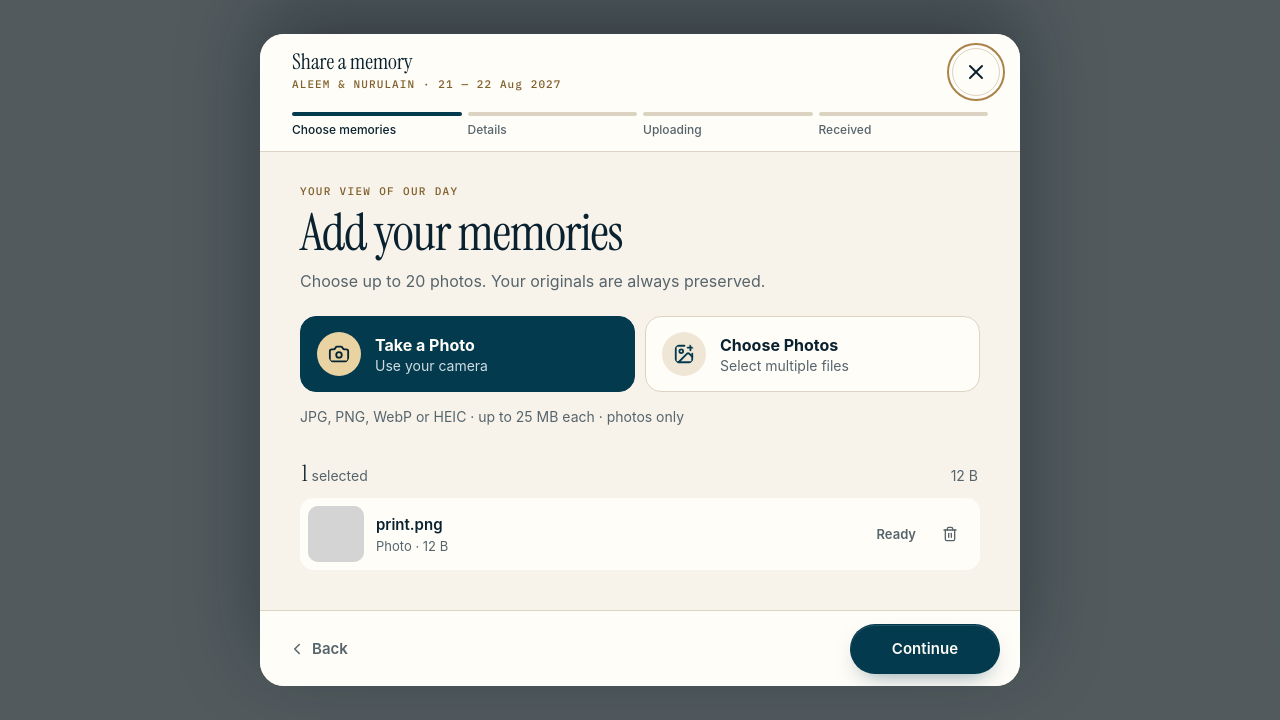
Test case: day-aware upload preparation › keeps a framed print locked to its printed date even when both albums are visible
The width and height of the screenshot is (1280, 720).
Click the button "Continue".
click(925, 649)  # box [850, 624, 1000, 674]
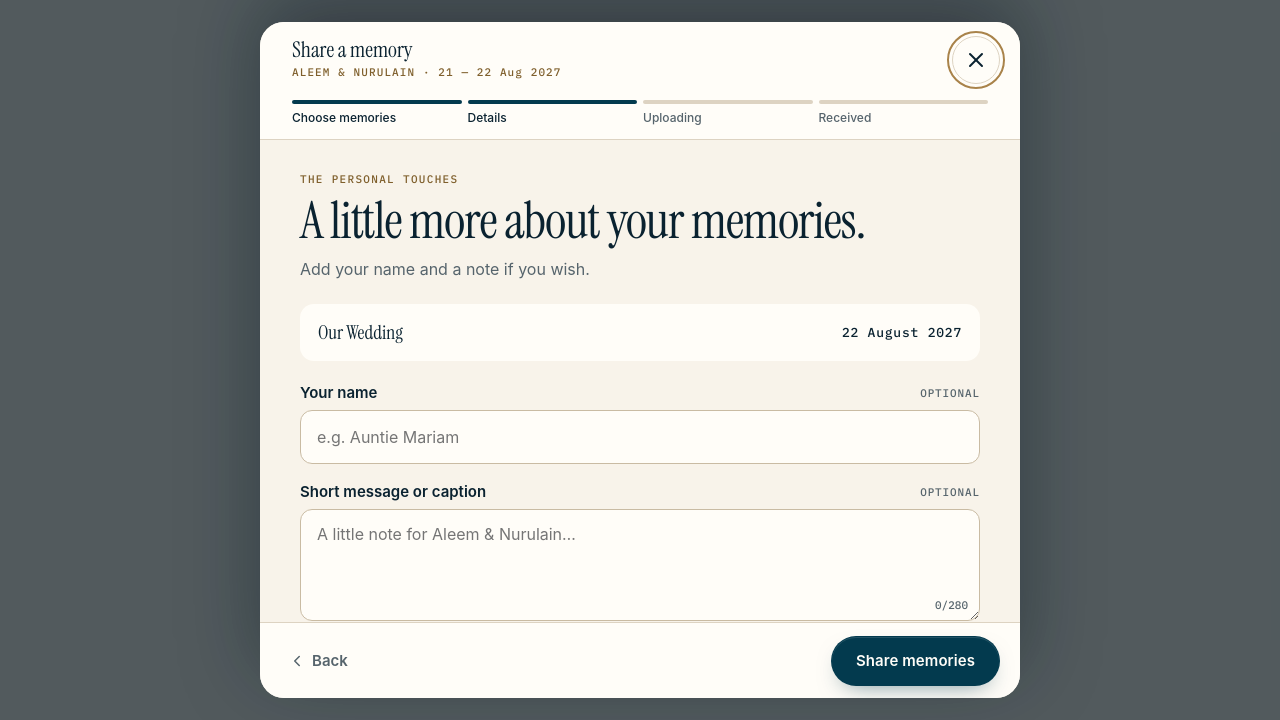
Check: the heading "A little more about your memories." is shown, box [300, 195, 920, 247]
Click the button "Share memories".
click(916, 661)  # box [831, 636, 1000, 686]
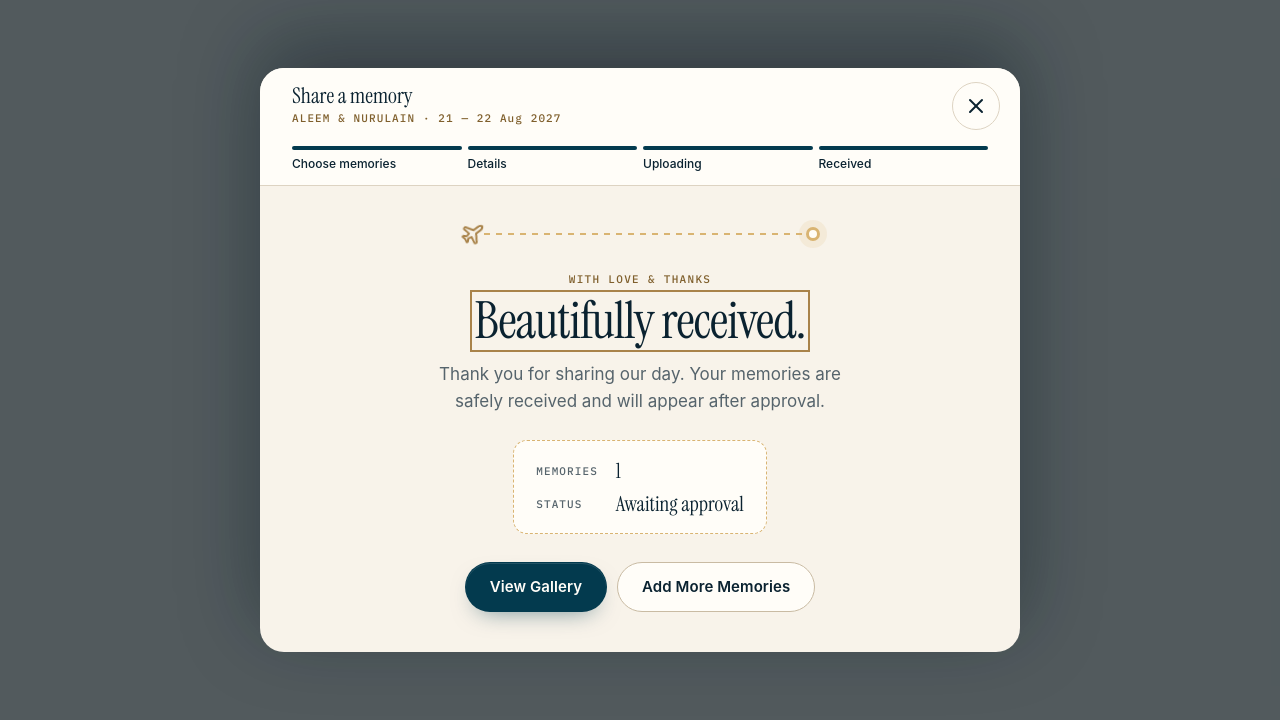
Check: the heading "Beautifully received." is shown, box [475, 295, 805, 347]
